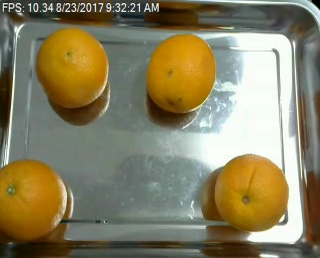Orange: (35, 26, 109, 107), (214, 153, 290, 231), (1, 158, 69, 238), (147, 35, 215, 114)
